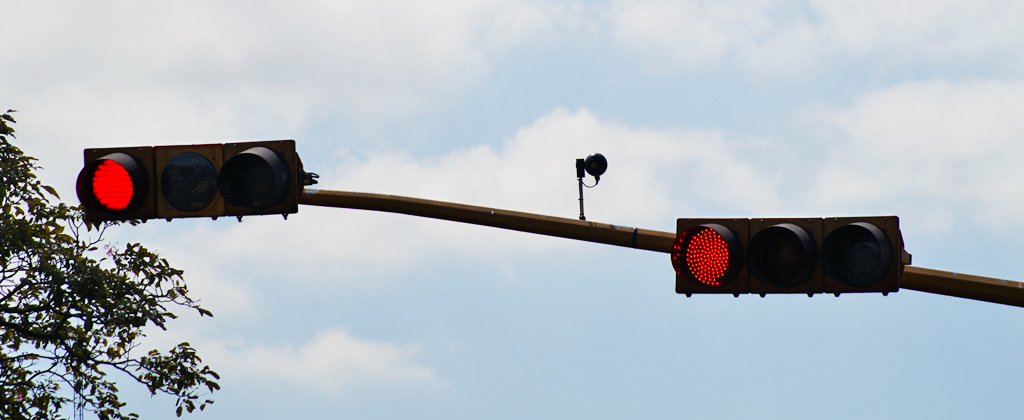Arbol: (1, 107, 222, 418)
Poste: (303, 187, 675, 256), (901, 260, 1021, 310)
Semaforo: (675, 218, 908, 300), (79, 144, 301, 217)
